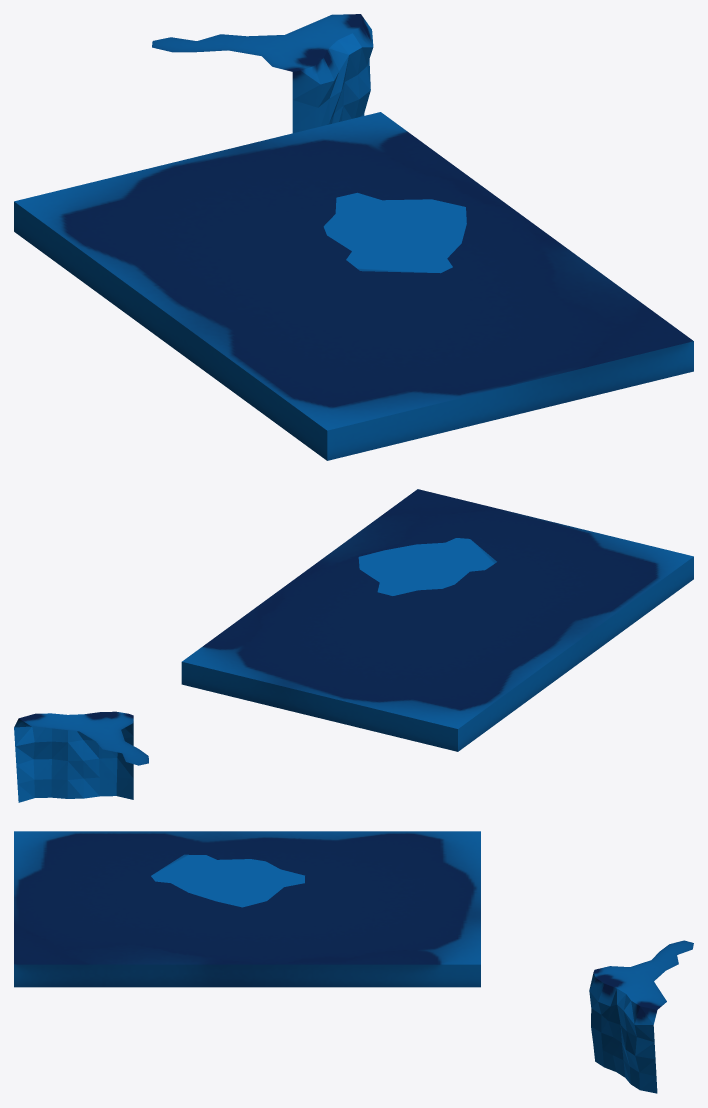
The model's file is Water_01.FBX.
The picture shows the model from 3 angles, top to bottom: view 1: azimuth 30°, elevation 25°; view 2: azimuth 150°, elevation 25°; view 3: azimuth 270°, elevation 25°; orthographic projection. The views are drawn at different scales.
Parts seen in each view (by area): view 1: Water_01; view 2: Water_01; view 3: Water_01.
Part boxes in pixels (x1,y1,x2,y2): Water_01: (14,14,693,460); Water_01: (14,489,693,802); Water_01: (14,831,693,1093).
Bounding box in the file's own units: 24.57 × 8.19 × 40.96.
